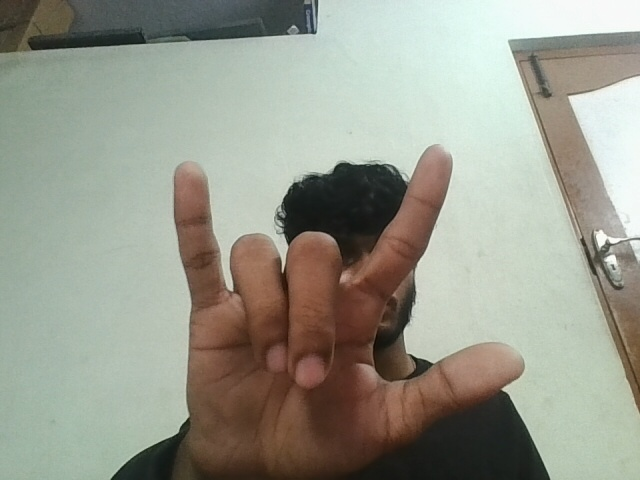iloveyou: (124, 129, 554, 471)
